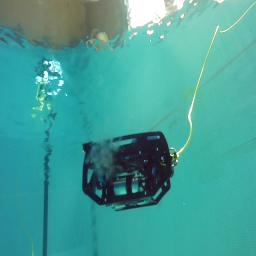Side: (82, 130, 174, 210)
